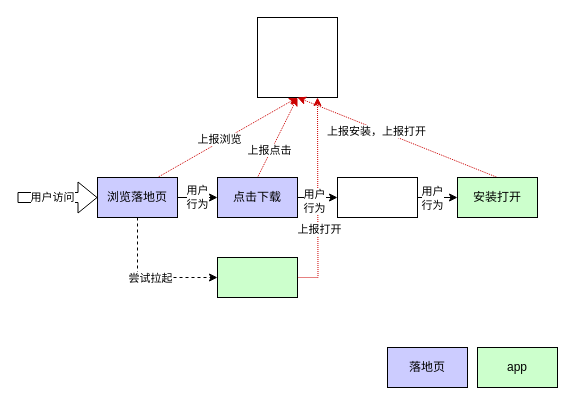
Image size: 575x405. Some labels were removed from this diagram. Each missing label, with the centre of its shape:
三方下载页: point (377, 197)
打开app成功: point (257, 277)
统计服务: point (297, 57)
